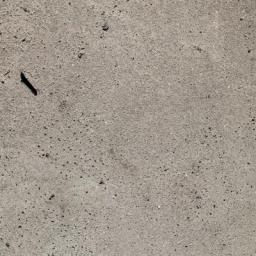FOD: (17, 71, 44, 100)
